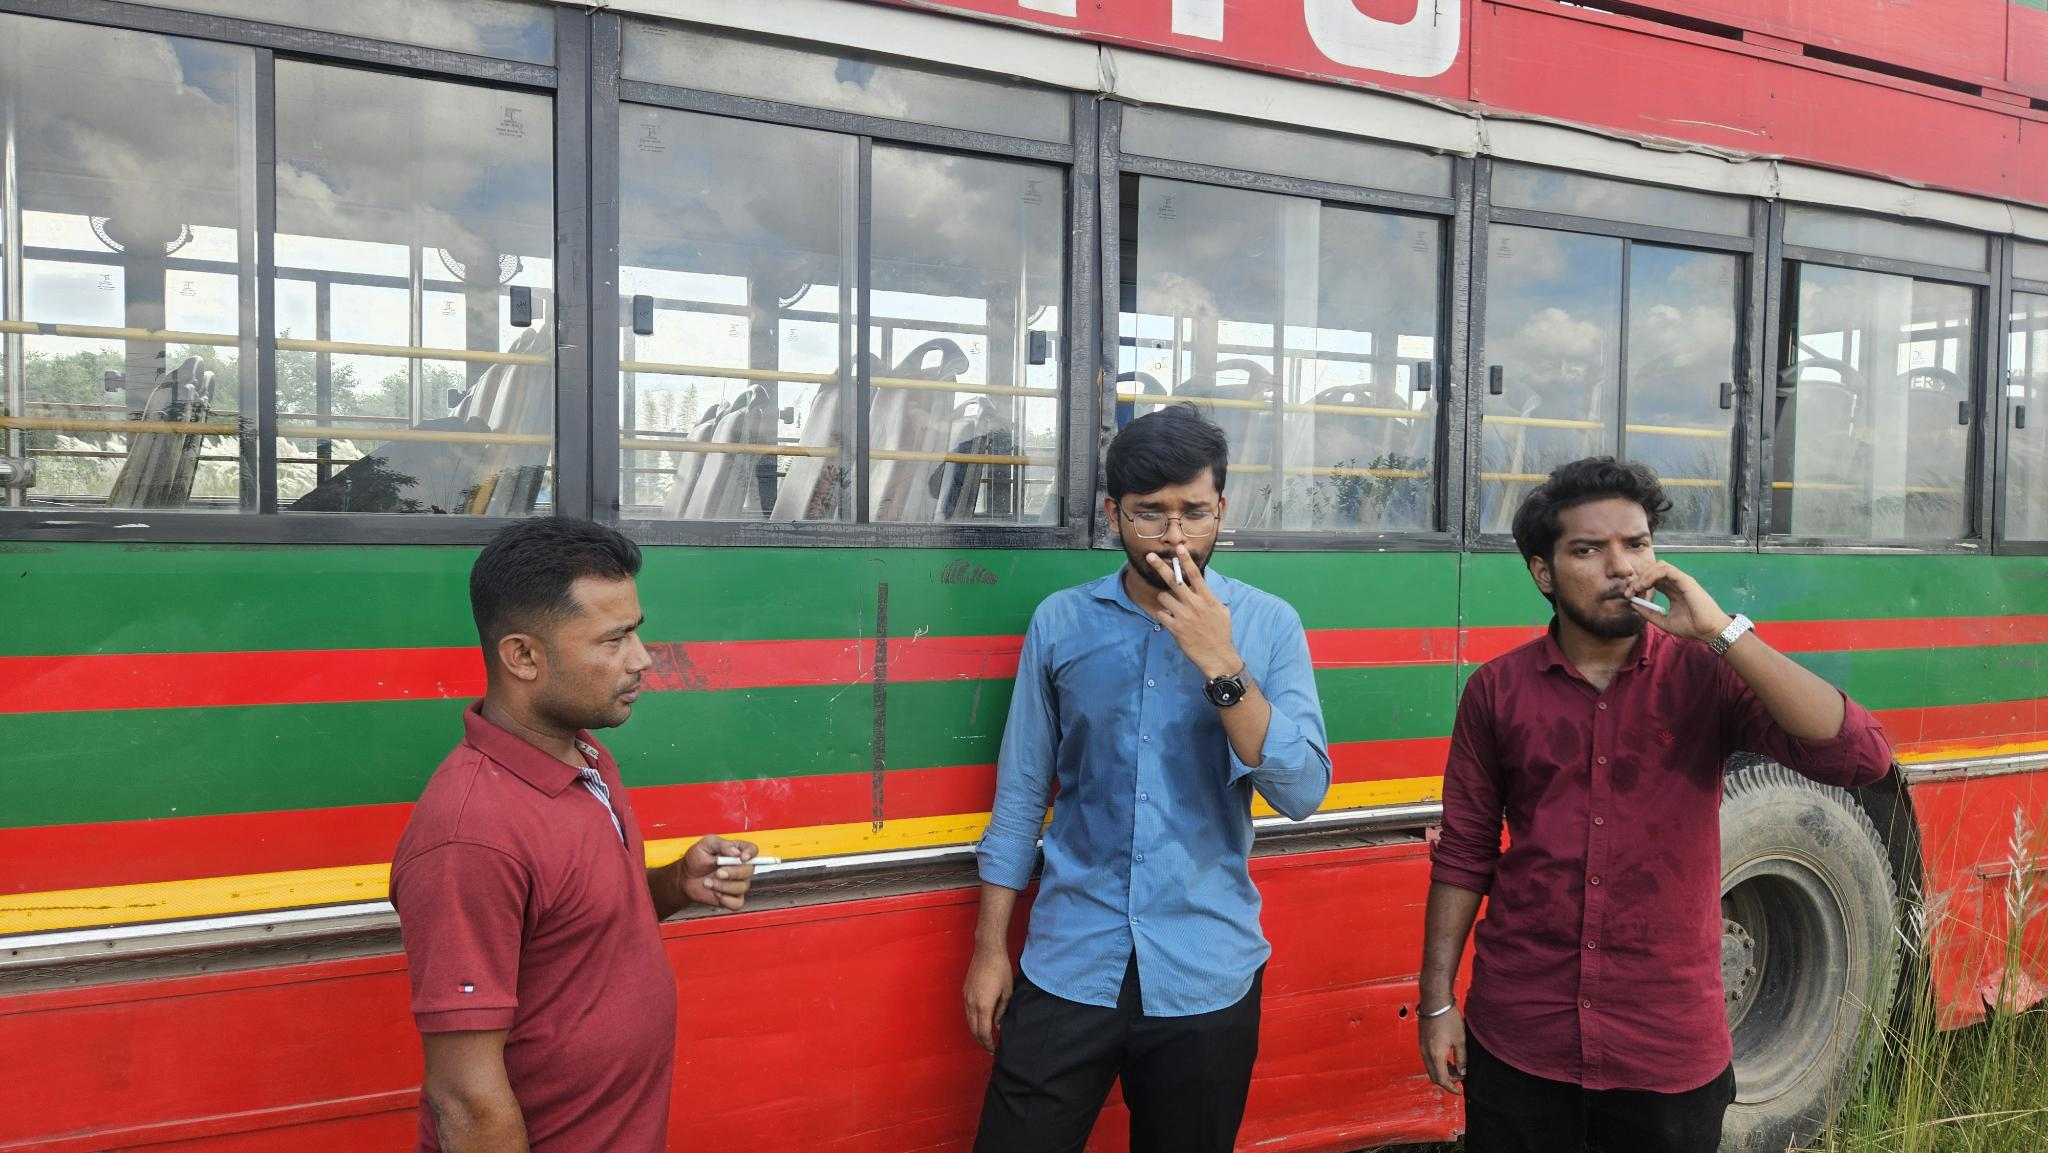cigarette: (713, 852, 783, 869), (1626, 592, 1668, 616), (1169, 555, 1184, 589)
smoker: (1415, 456, 1892, 1153), (959, 404, 1331, 1153), (388, 515, 760, 1153)
